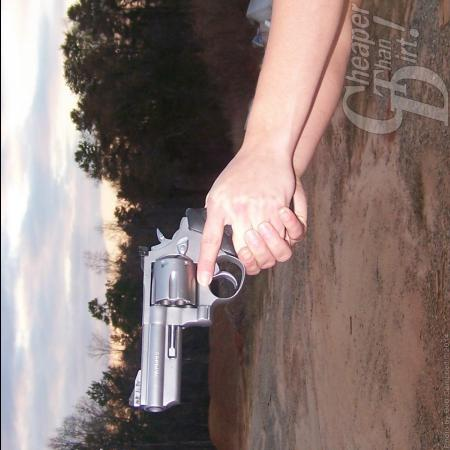Pistol: (125, 192, 298, 421)
